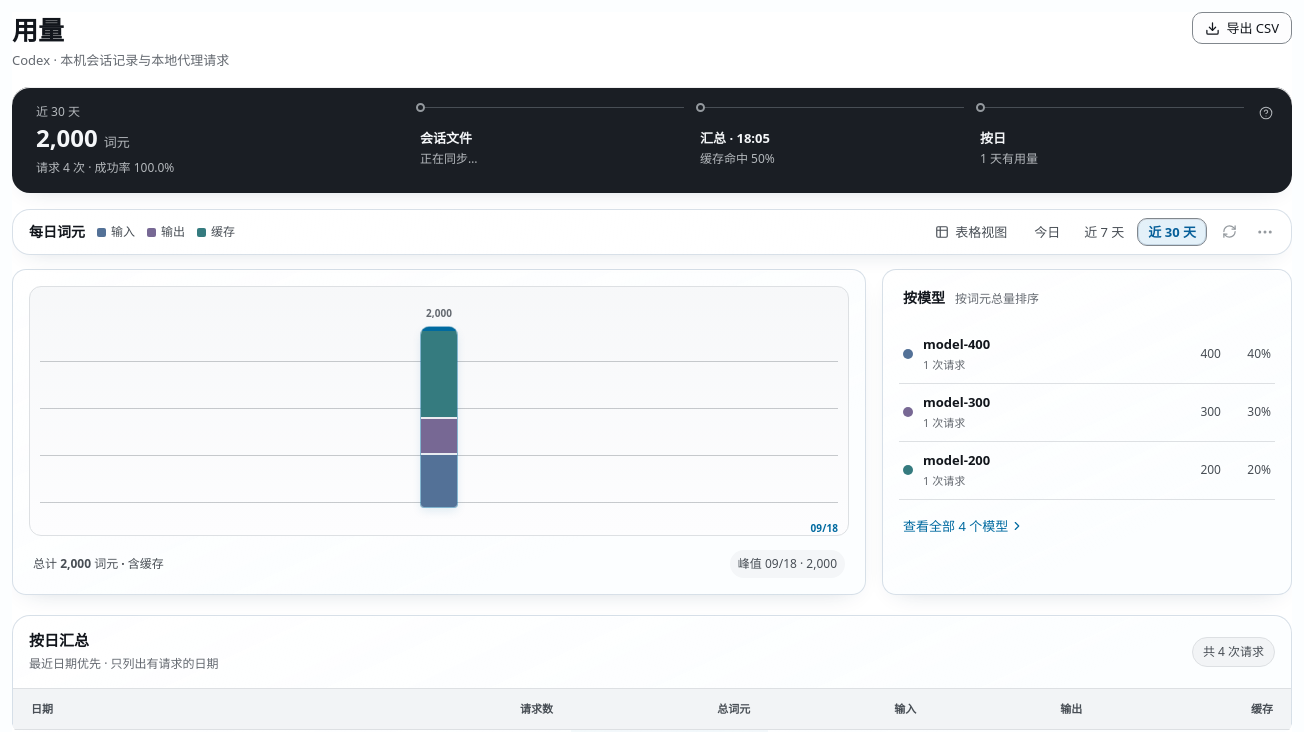
Scenario: UsageView › reuses the initial sync across StrictMode effects and range changes
Expected: the button named "刷新用量" is disabled, [1213,216,1245,248]
Click the button "今日". click: (1047, 232)
box: [1023,218,1071,246]
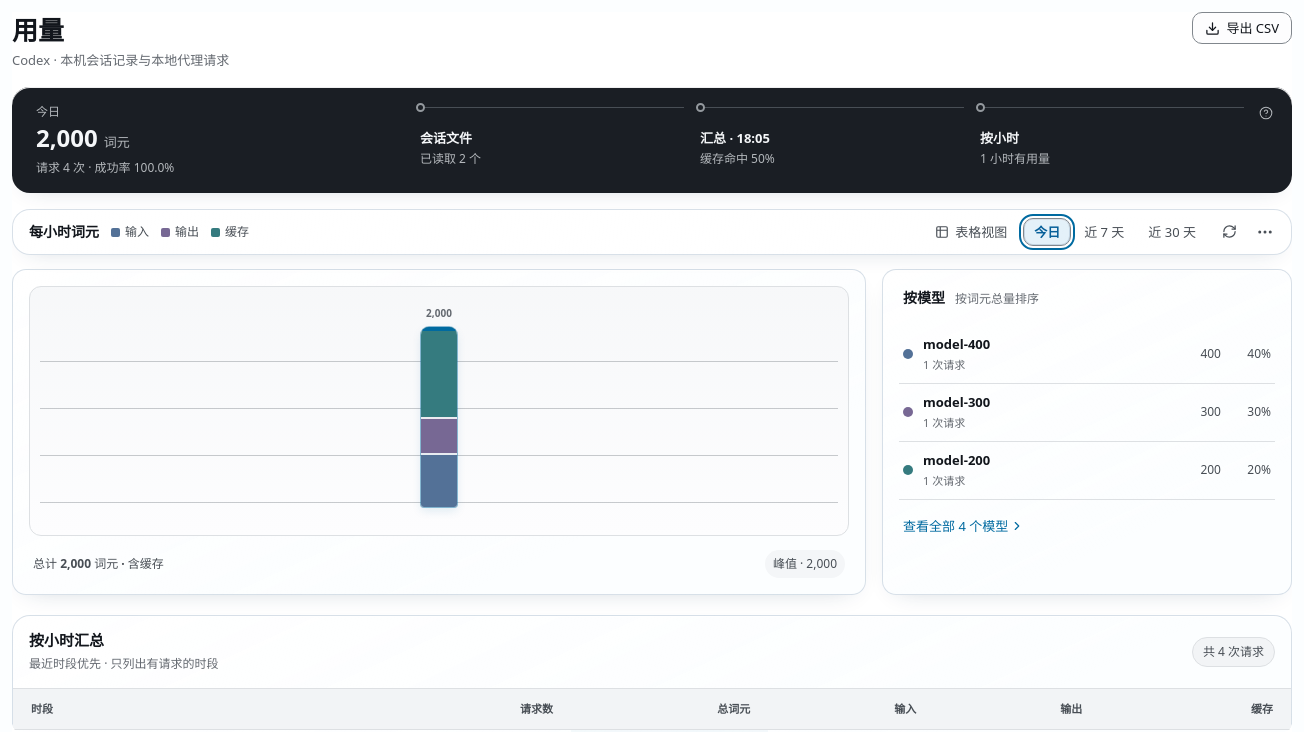
Expected: the button named "刷新用量" is enabled, [1213,216,1245,248]
